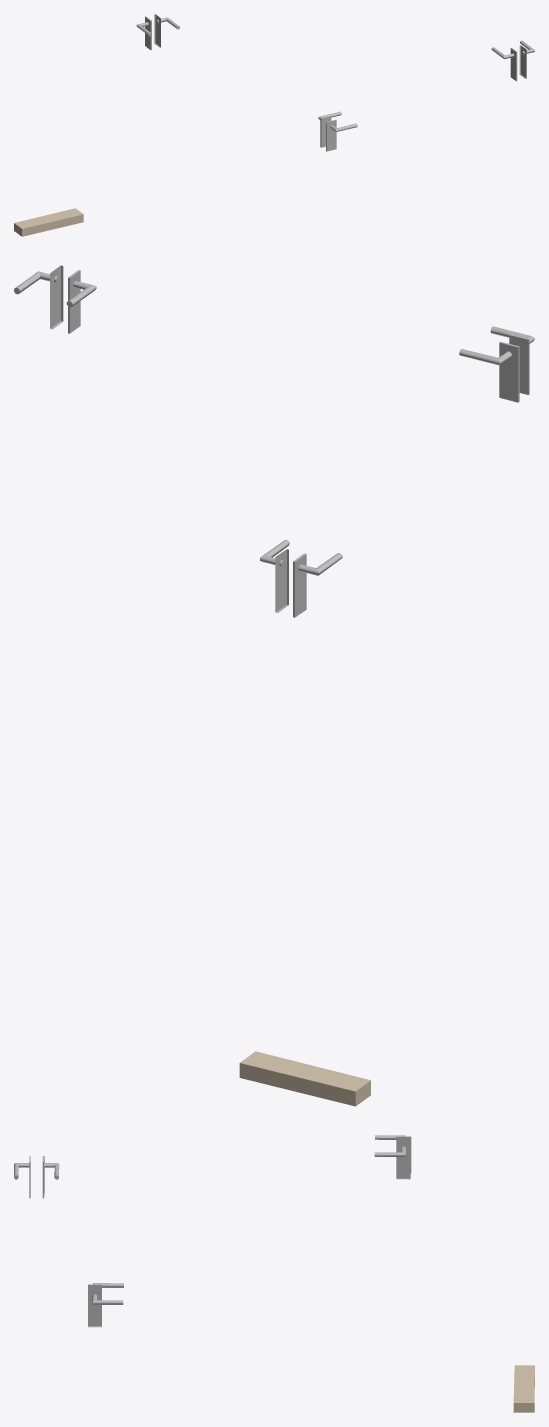
3 renders of one model, top to bottom at view 1: azimuth 30°, elevation 25°; view 2: azimuth 150°, elevation 25°; view 3: azimuth 270°, elevation 25°, orthographic. The views are drawn at different scales.
Bounding box in the file's own units: 1.72 × 1.1 × 1.8.
